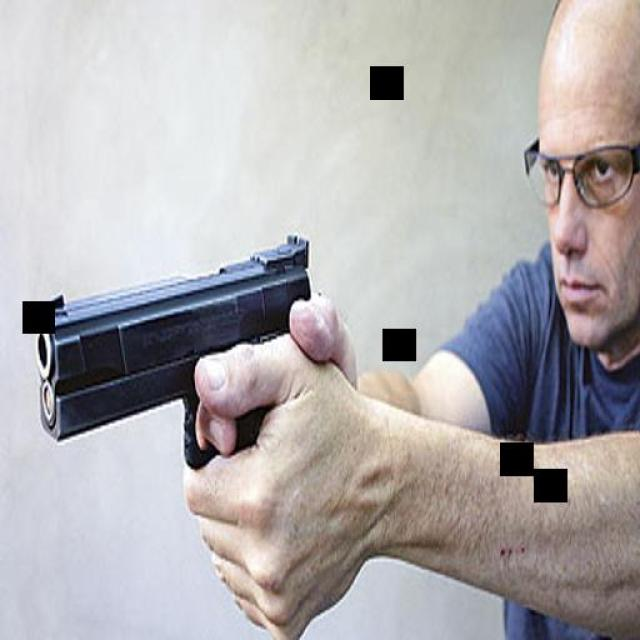gun: (30, 224, 314, 481)
